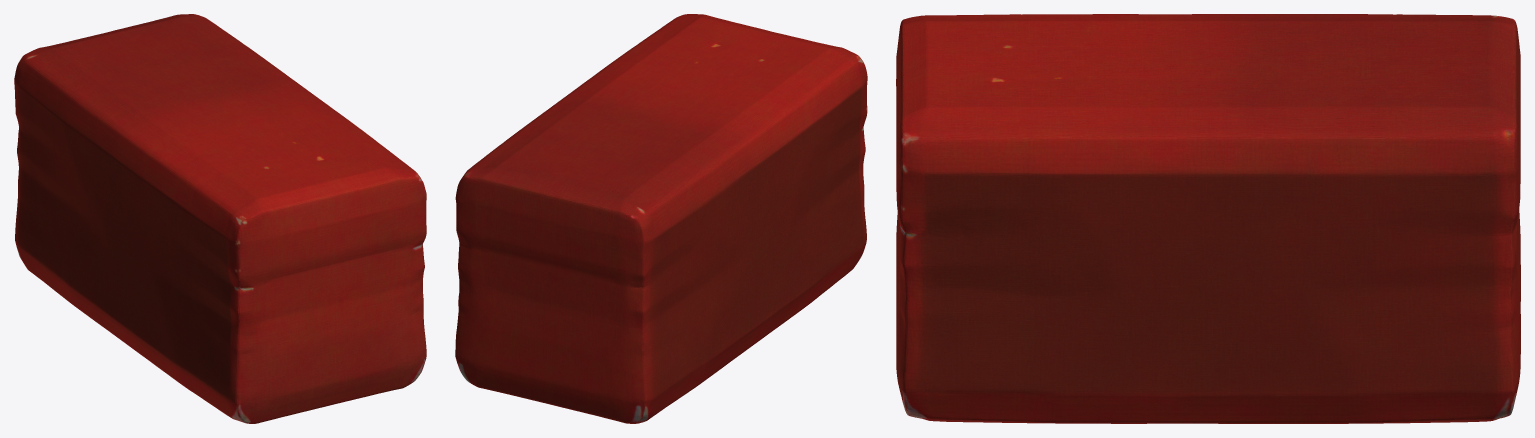
The model's file is image_0002_segmented.glb.
3 views of the same model, side by side, from view 1: azimuth 30°, elevation 25°; view 2: azimuth 150°, elevation 25°; view 3: azimuth 270°, elevation 25° (orthographic). The views are drawn at different scales.
Parts seen in each view (by area): view 1: tmpzc87jqnq.ply; view 2: tmpzc87jqnq.ply; view 3: tmpzc87jqnq.ply.
Part boxes in pixels (x1,y1,x2,y2): tmpzc87jqnq.ply: (14, 14, 426, 423); tmpzc87jqnq.ply: (455, 14, 867, 423); tmpzc87jqnq.ply: (896, 14, 1520, 423).
Size of the model in its own units: 1.01 by 1.08 by 1.99.
1 material, 1 textured.
